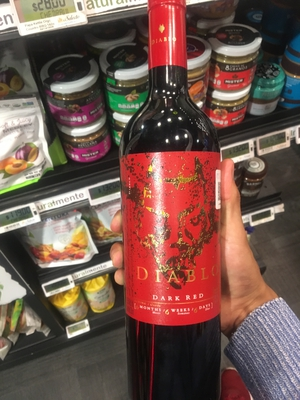diablo dark red: (106, 10, 252, 400)
